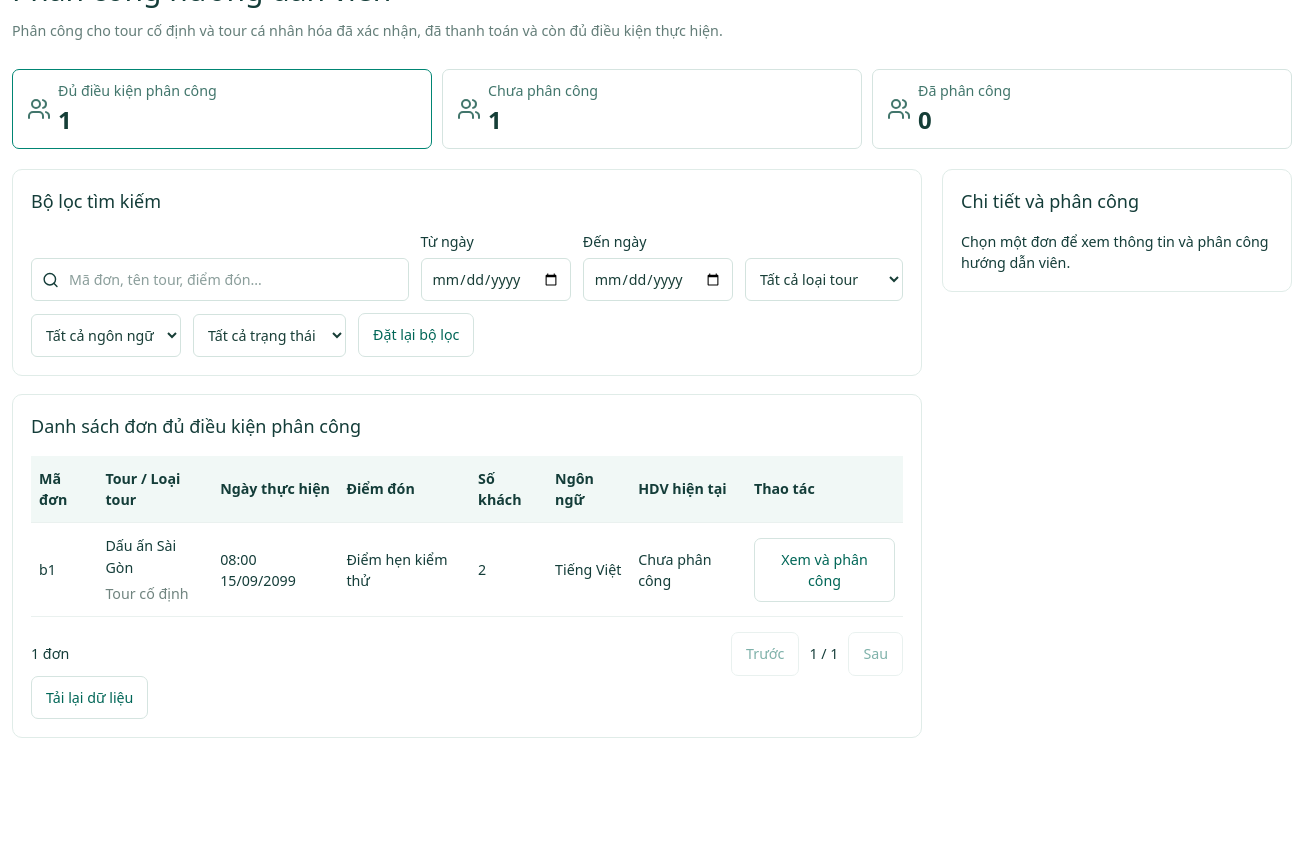
rechecks departure time on confirmation even if the screen was opened earlier
Click the button "Xem và phân công".
click(824, 570)  # box [754,538,895,602]
(page scrolled)
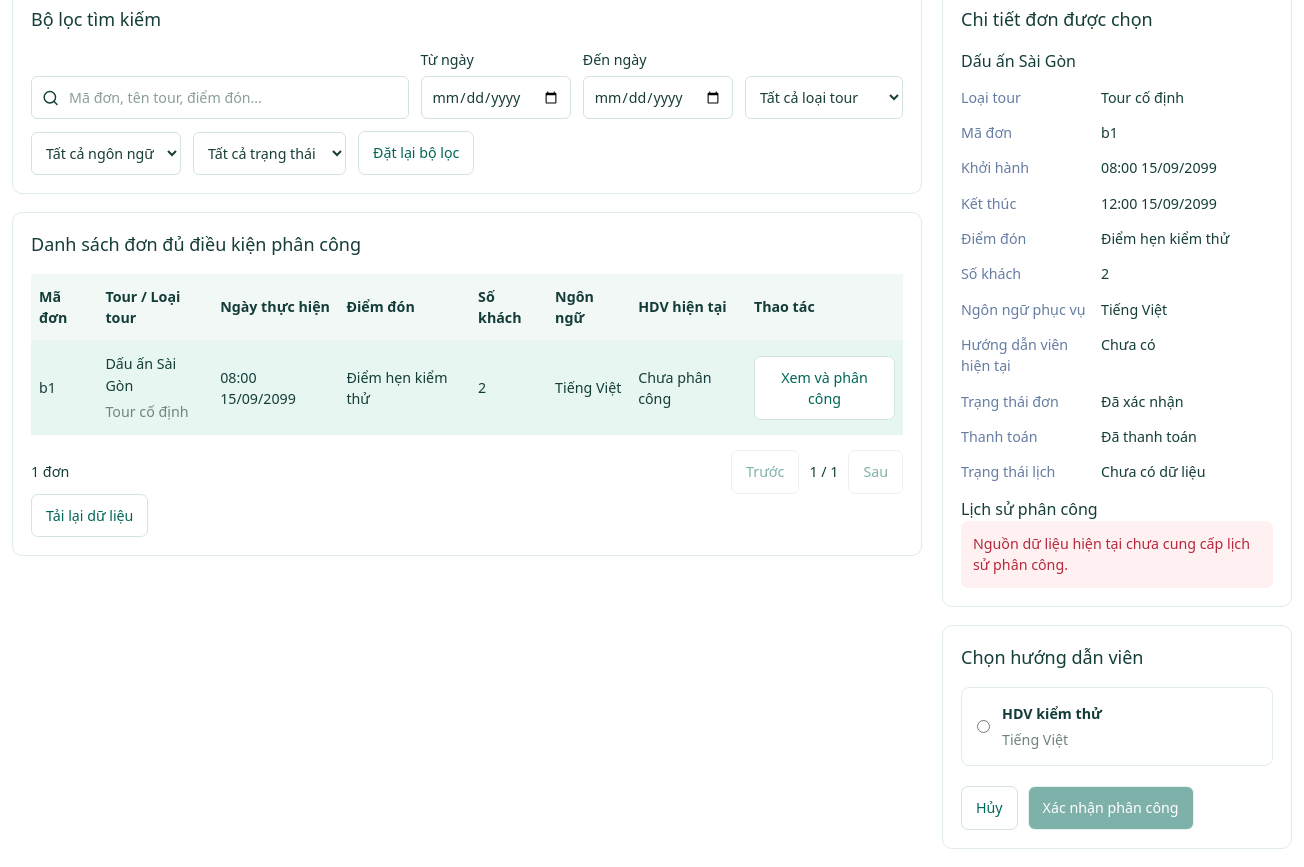
Click the radio button labelled "HDV kiểm thử Tiếng Việt".
click(984, 726)  # box [977,720,990,733]
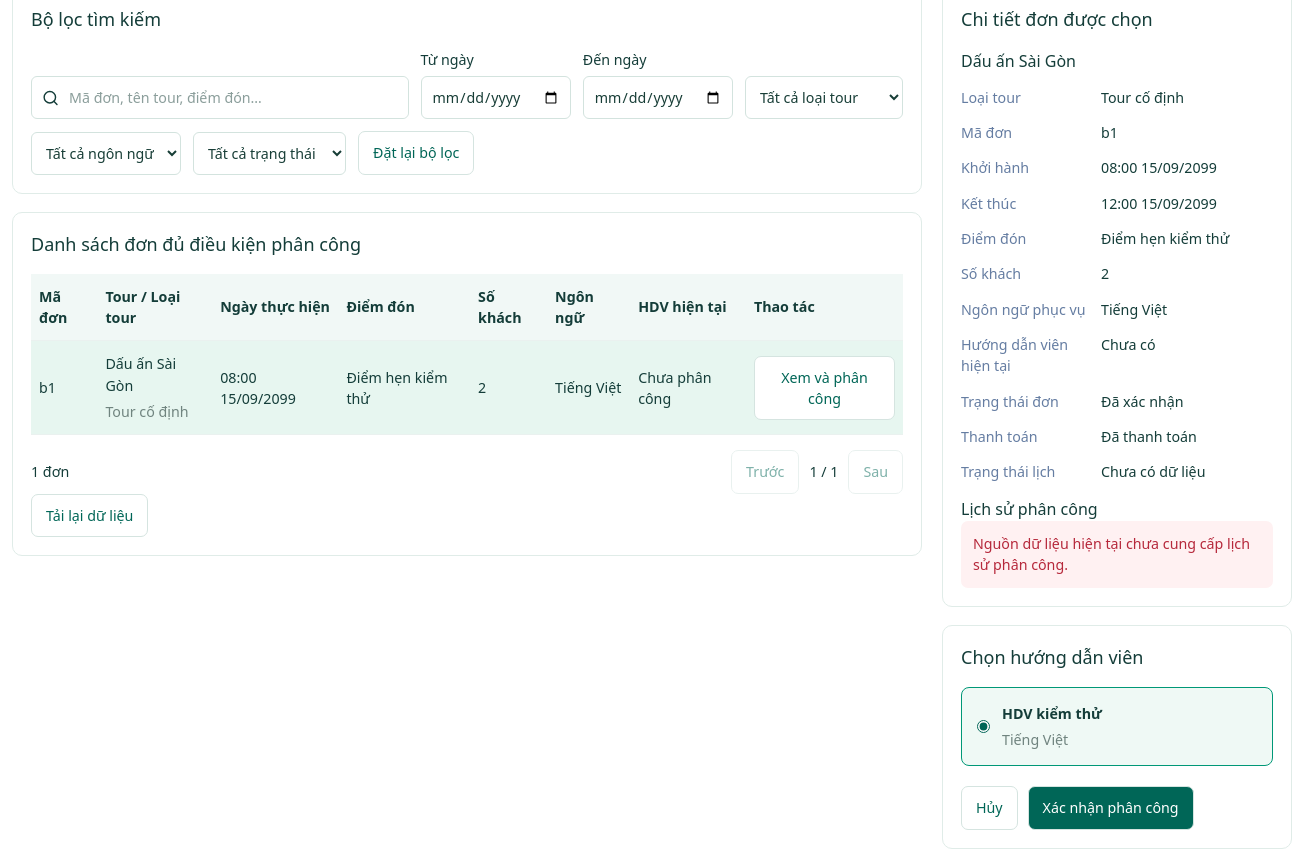
Click the button "Xác nhận phân công".
click(1111, 808)  # box [1028,786,1194,830]
(page scrolled)
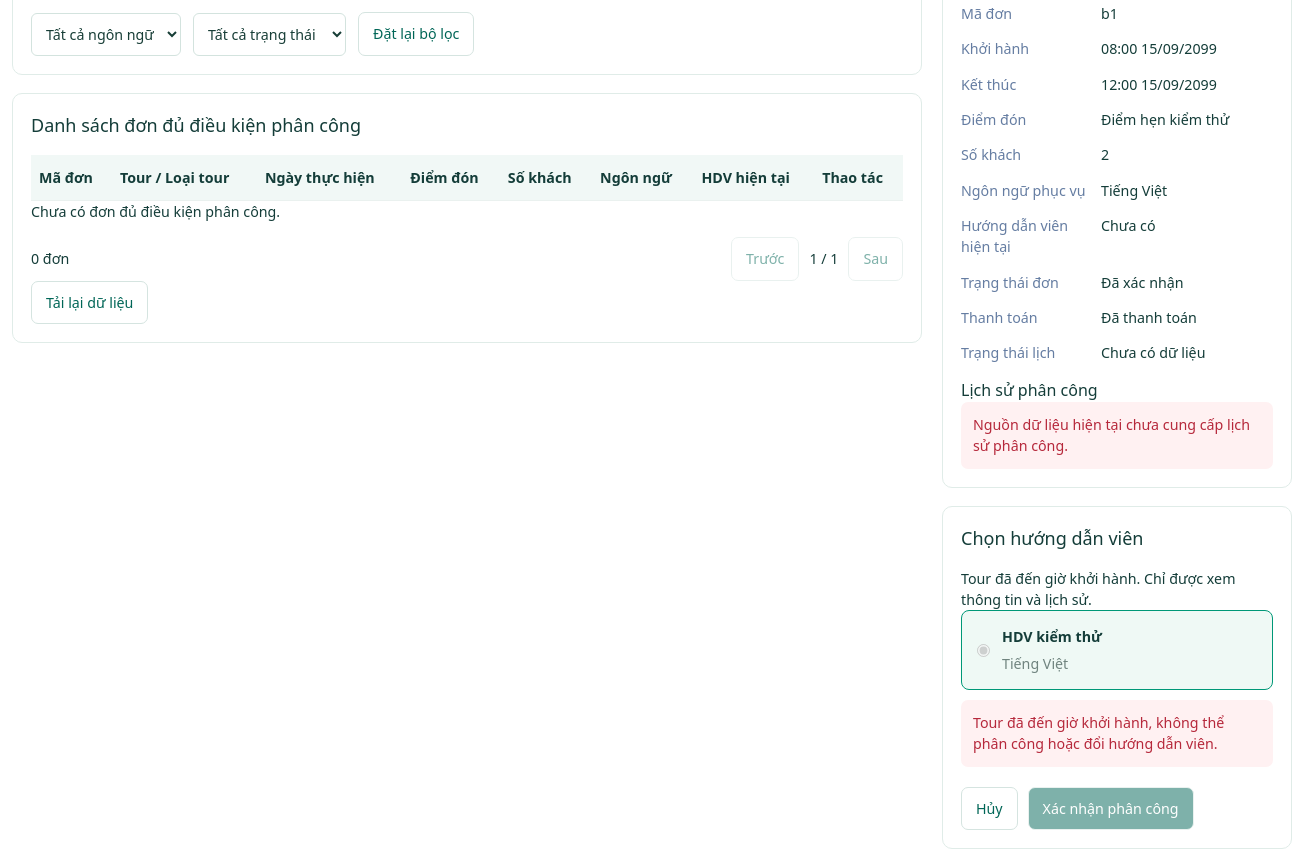
Expected: the message shows "Tour đã đến giờ khởi hành", [973,713,1224,753]
